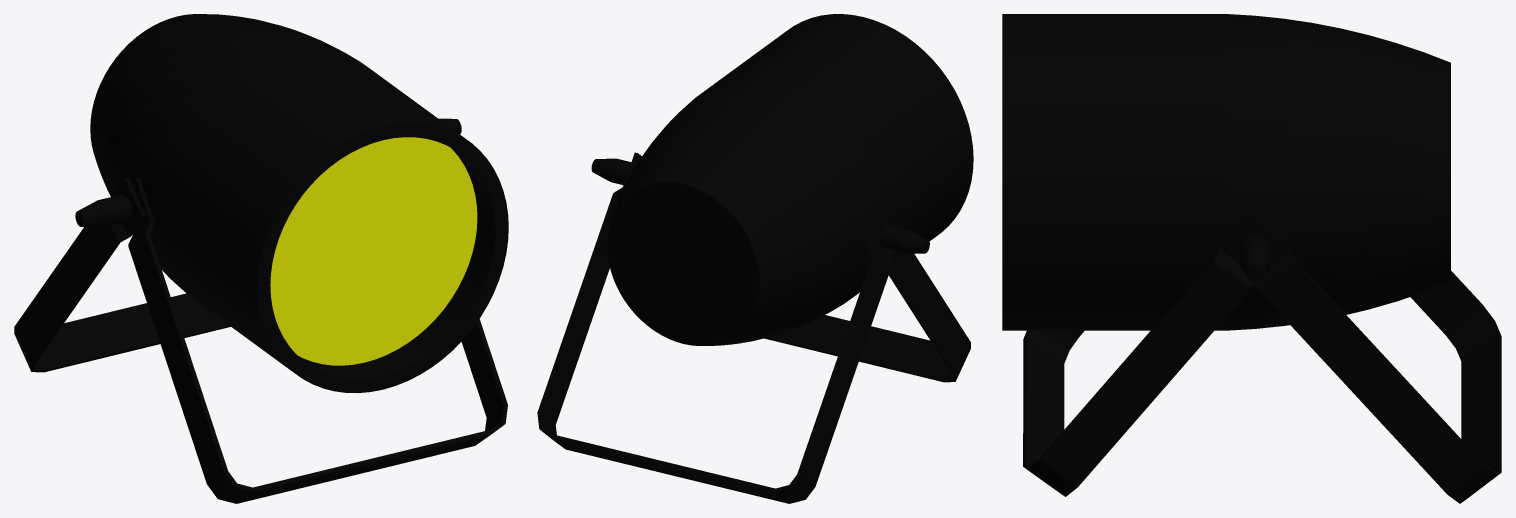
File: RUSH.FBX
3 renders of one model, left to right at view 1: azimuth 30°, elevation 25°; view 2: azimuth 150°, elevation 25°; view 3: azimuth 270°, elevation 25°, orthographic. The views are drawn at different scales.
Parts seen in each view (by area): view 1: Body, Leg2, Leg1; view 2: Body, Leg1, Leg2; view 3: Body, Leg1, Leg2.
Boxes of the visible parts, left/top/right/bottom form: Body: left=75, top=14, right=508, bottom=393; Leg2: left=128, top=178, right=507, bottom=503; Leg1: left=14, top=177, right=230, bottom=372; Body: left=591, top=14, right=973, bottom=345; Leg1: left=537, top=152, right=898, bottom=503; Leg2: left=764, top=208, right=970, bottom=382; Body: left=1002, top=14, right=1450, bottom=330; Leg1: left=1221, top=216, right=1501, bottom=503; Leg2: left=1023, top=211, right=1288, bottom=496.
Size of the model in its own units: 0.2941 by 0.3081 by 0.2749.
